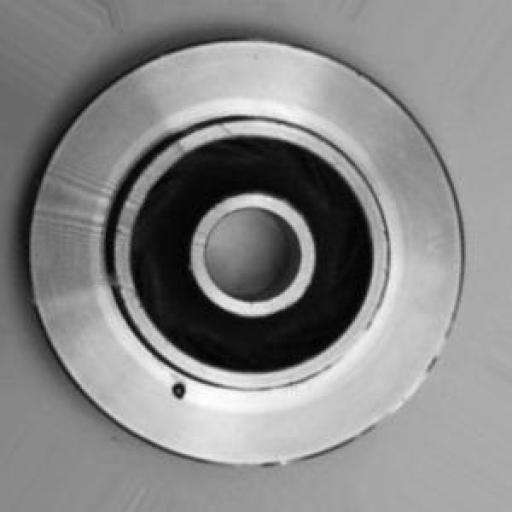defect: (162, 363, 193, 417)
